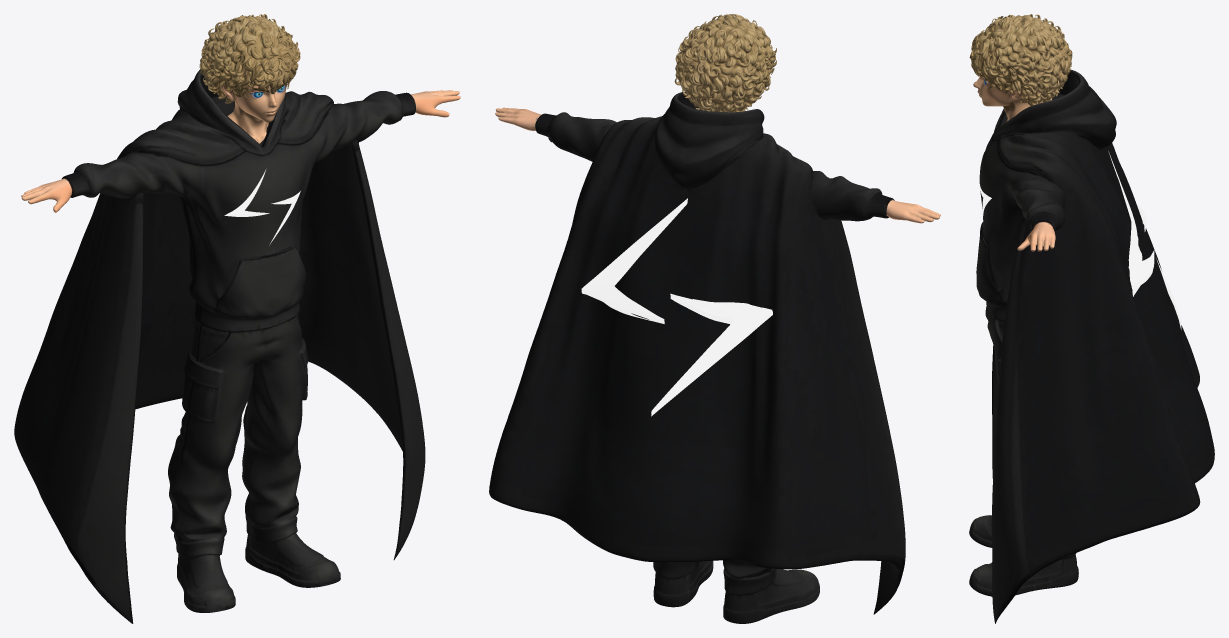
3 views of the same model, side by side, from view 1: azimuth 30°, elevation 25°; view 2: azimuth 150°, elevation 25°; view 3: azimuth 270°, elevation 25° (orthographic). The views are drawn at different scales.
Visible parts, largest first — view 1: SAKIN_FINAL, KAFA_G_CALISMA, LOGO_67_SIRT; view 2: SAKIN_FINAL, KAFA_G_CALISMA, LOGO_67_SIRT; view 3: SAKIN_FINAL, KAFA_G_CALISMA, LOGO_67_SIRT.
Part boxes in pixels (<box>): SAKIN_FINAL: <box>14,69,460,623</box>; KAFA_G_CALISMA: <box>199,14,300,143</box>; LOGO_67_SIRT: <box>224,169,300,245</box>; SAKIN_FINAL: <box>489,91,940,623</box>; KAFA_G_CALISMA: <box>674,14,776,112</box>; LOGO_67_SIRT: <box>581,198,772,416</box>; SAKIN_FINAL: <box>969,69,1214,623</box>; KAFA_G_CALISMA: <box>969,14,1072,121</box>; LOGO_67_SIRT: <box>979,148,1181,329</box>.
Bounding box in the file's own units: 2.5 × 3.09 × 1.26.
Materials: 5 (4 with a texture image).
